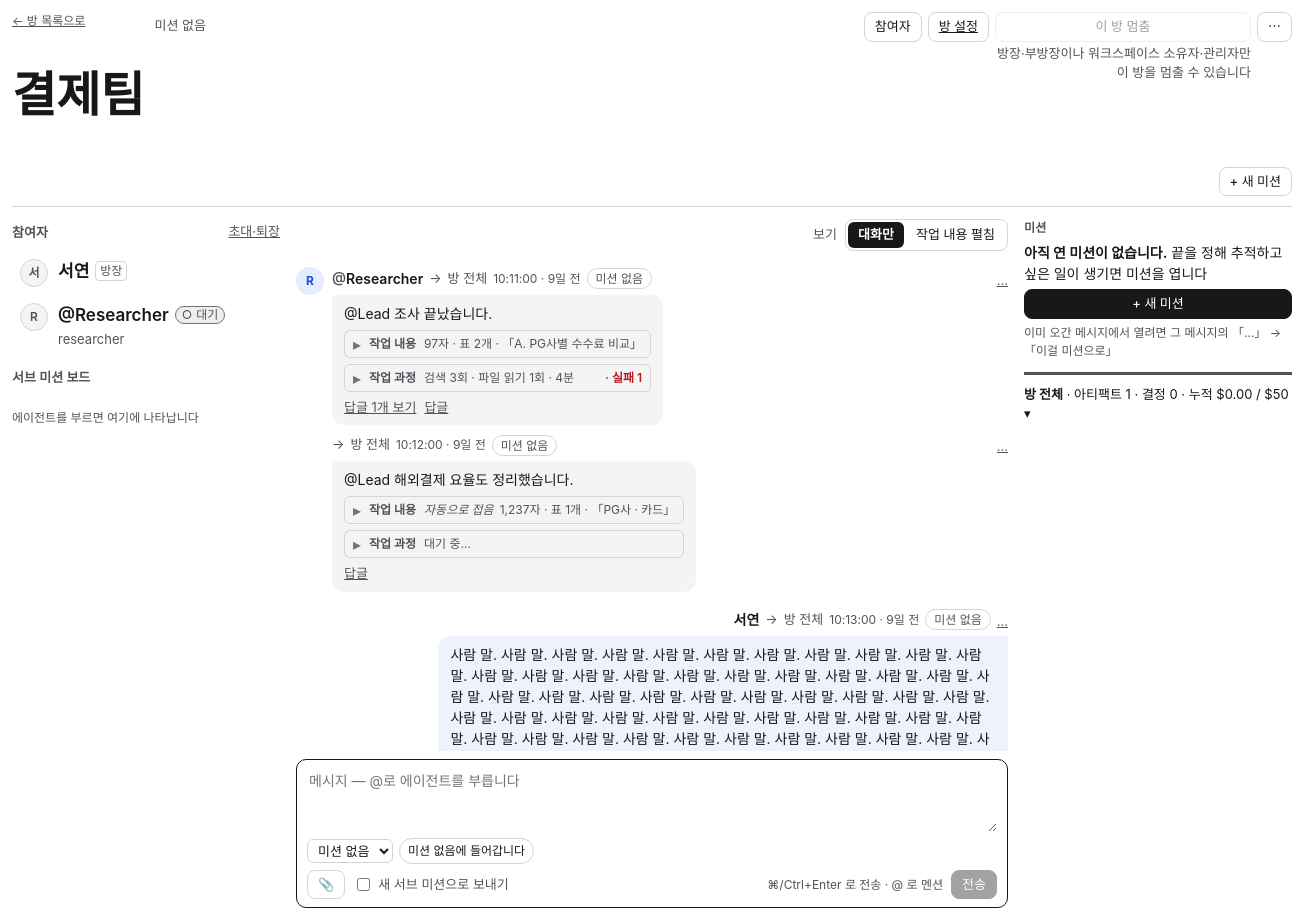
Scenario: 세 층 — 대화만 기본, 접힌 줄, 없는 층은 줄이 없다 › 작업 과정 — 펼치기 전부터 요약(많은 동작 2개)과 실패 꼬리가 보이고, 펼치면 활동 피드
Check: the element with test id "room-title" is shown, box [12, 65, 144, 124]
Check: the element with test id "fold-fail" reads "· 실패 1", box [605, 369, 642, 387]
Click the 1st button with test id "process-fold" at (498, 378), box [344, 364, 651, 392]
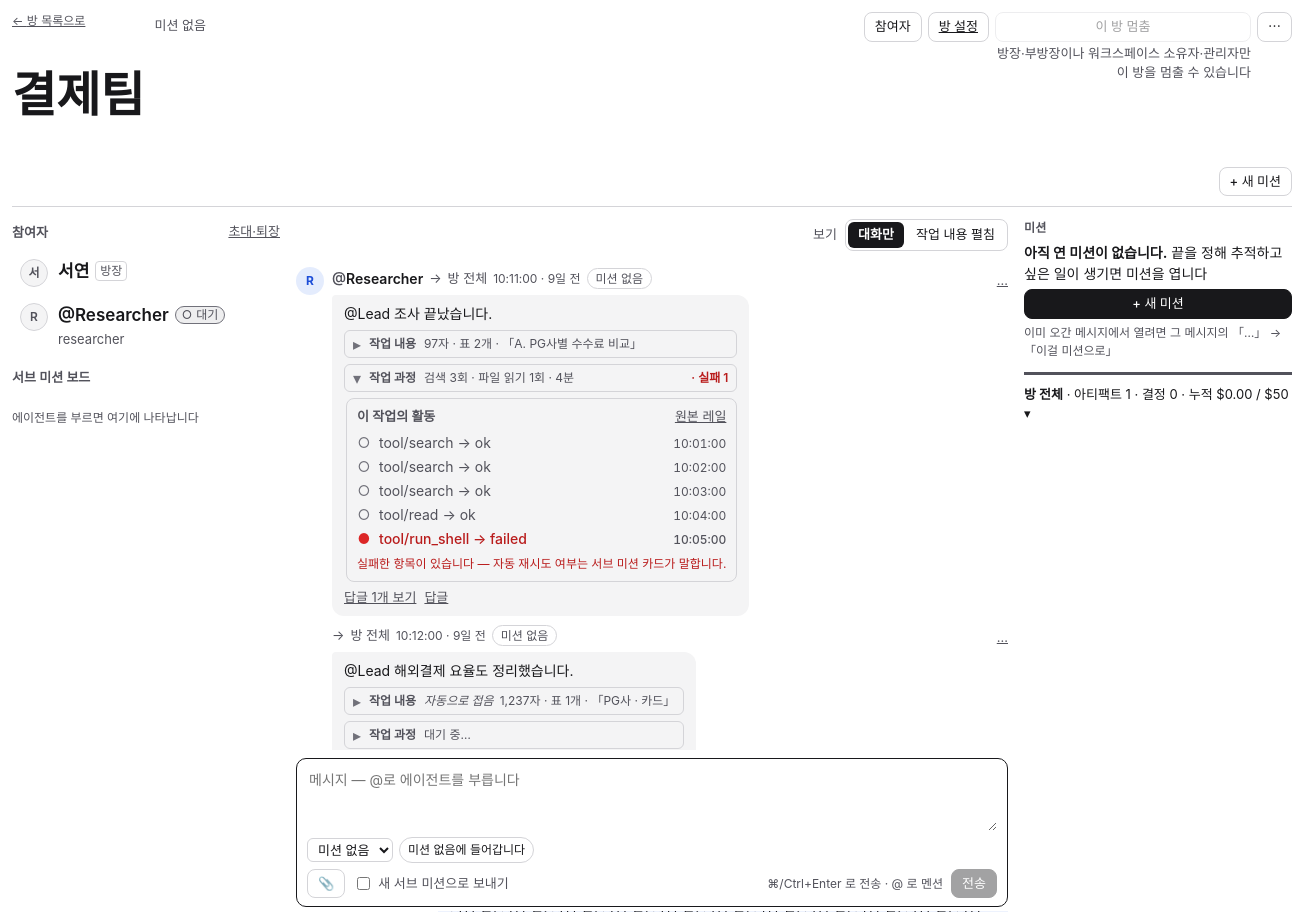
Check: the element with test id "activity-feed" is shown, box [346, 398, 737, 582]
